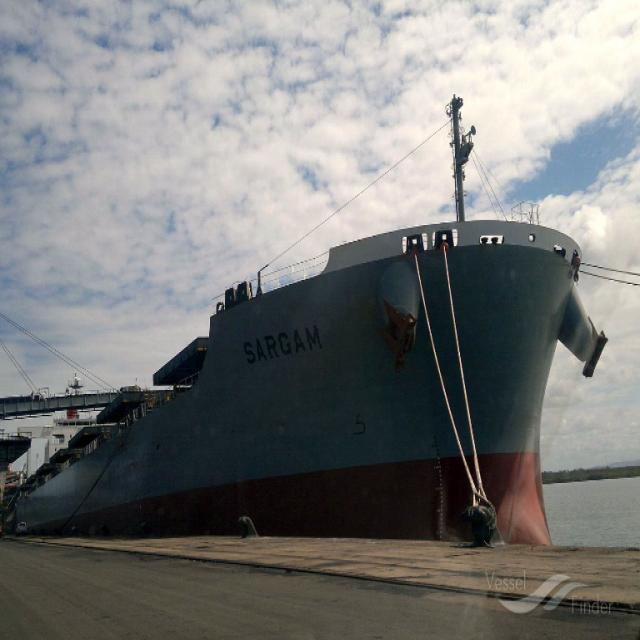OCR: (235, 315, 323, 368)
